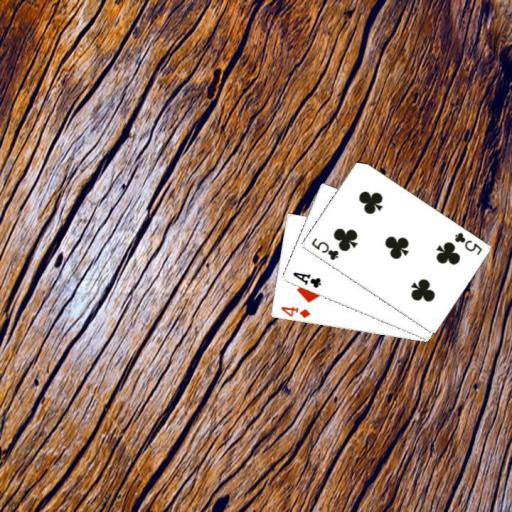4D: (278, 304, 312, 320)
5C: (451, 229, 483, 257), (308, 235, 340, 262)
AC: (290, 269, 322, 289)
